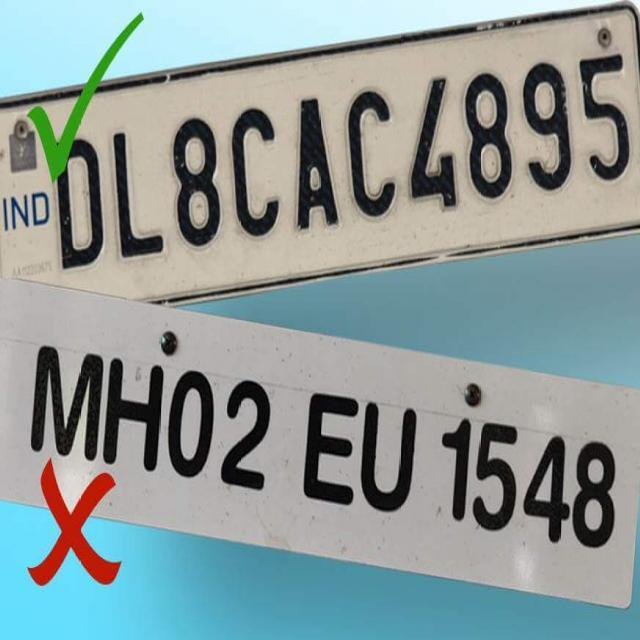License_Plate: (0, 4, 640, 300)
